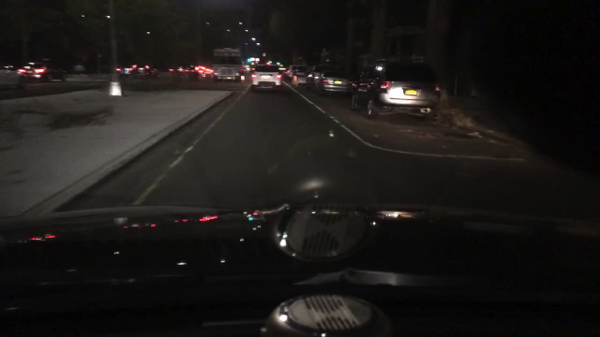car: (349, 58, 443, 121), (16, 59, 70, 84), (250, 64, 285, 95), (318, 68, 352, 96), (0, 62, 27, 92), (167, 63, 207, 82), (306, 65, 333, 90), (130, 64, 160, 80), (286, 65, 302, 81), (292, 72, 310, 86), (120, 65, 132, 76)
truck: (212, 46, 246, 82)
